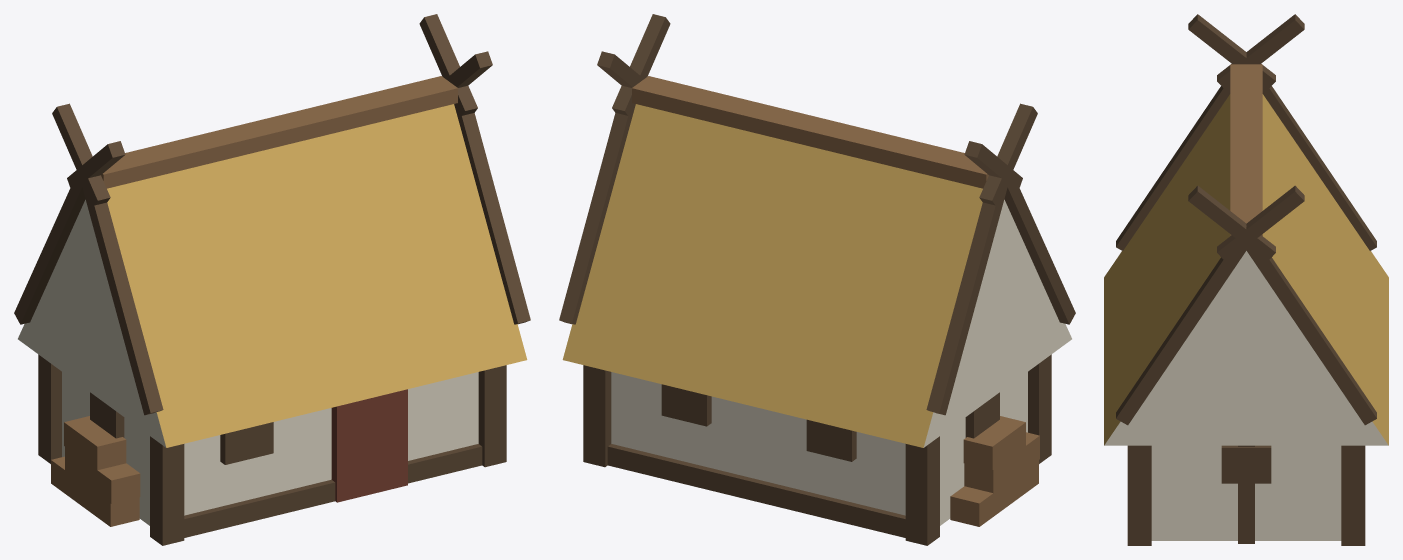
The model's file is cottage-03.glb.
3 views of the same model, side by side, from view 1: azimuth 30°, elevation 25°; view 2: azimuth 150°, elevation 25°; view 3: azimuth 270°, elevation 25° (orthographic). The views are drawn at different scales.
Visible parts, largest first — view 1: cottage-03; view 2: cottage-03; view 3: cottage-03.
Part boxes in pixels (x1=…): cottage-03: x1=14, y1=14, x2=530, y2=545; cottage-03: x1=559, y1=14, x2=1075, y2=545; cottage-03: x1=1104, y1=14, x2=1388, y2=545.
Bounding box in the file's own units: 5.92 × 5.63 × 4.
Materials: 1 (1 with a texture image).
